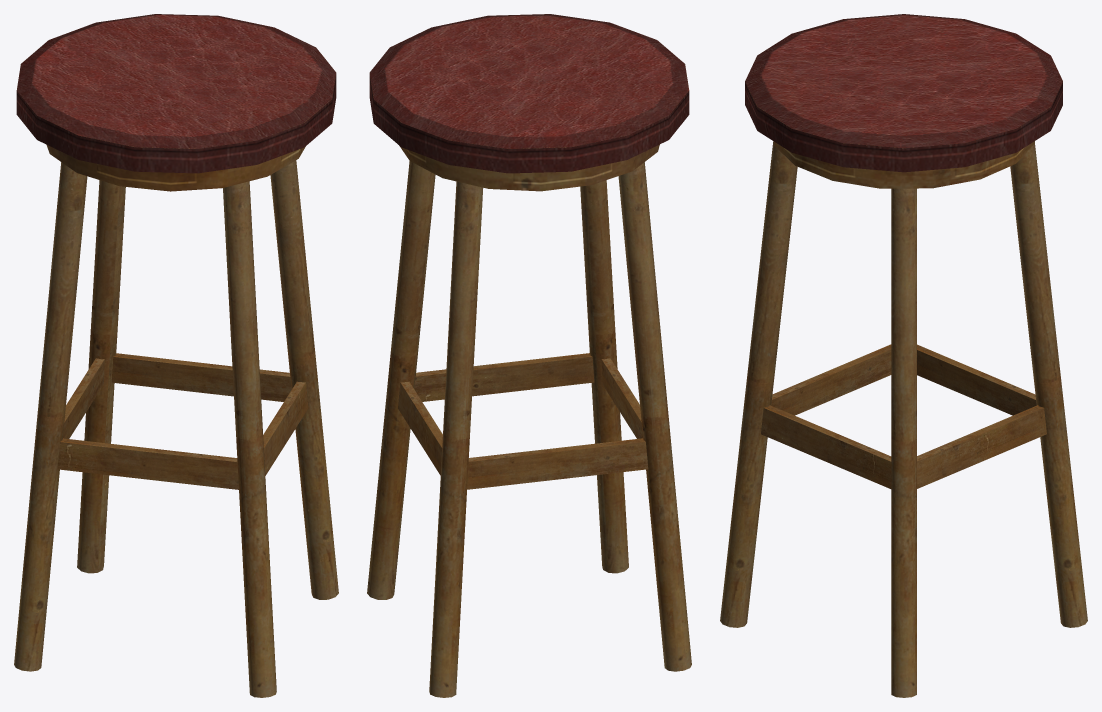
File: chair04.obj
3 renders of one model, left to right at view 1: azimuth 30°, elevation 25°; view 2: azimuth 150°, elevation 25°; view 3: azimuth 270°, elevation 25°, orthographic.
Visible parts, largest first — view 1: mesh; view 2: mesh; view 3: mesh.
Boxes of the visible parts, box(x1,y1,x2,y2) form: mesh: box(14, 14, 338, 697); mesh: box(367, 14, 691, 697); mesh: box(720, 14, 1087, 697).
Size of the model in its own units: 20.27 by 33.46 by 20.38.
1 material, 1 textured.
